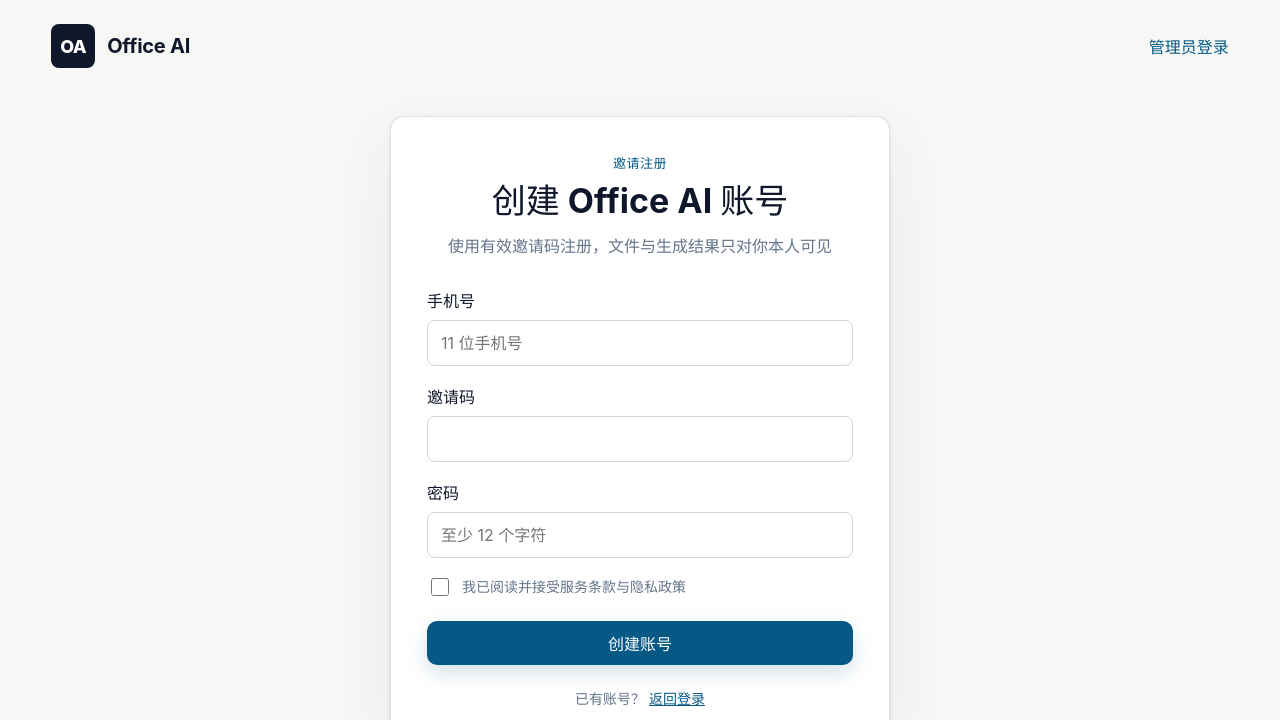
Register view › clears a partially issued Session when identity bootstrap fails
Type "13800138000" into the field with test id "phone-number".
click(640, 343); type("13800138000")  # box [427, 320, 853, 366]
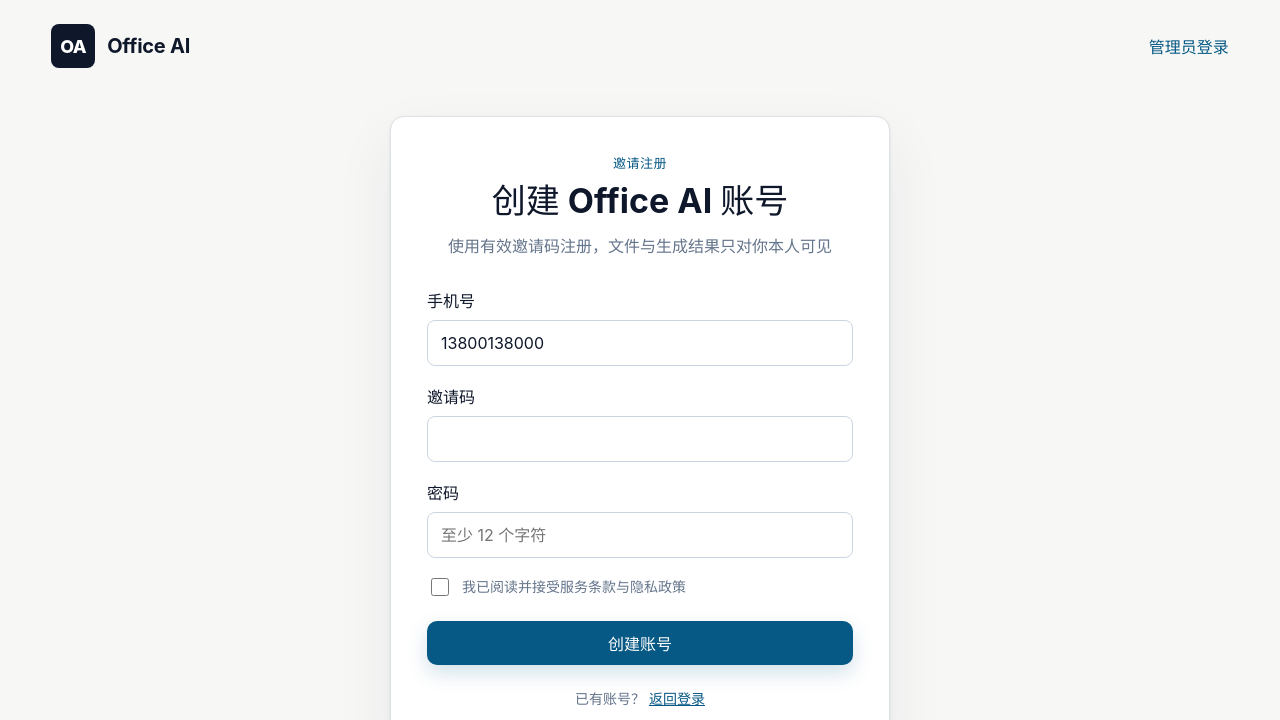
Type "INV-CODE" into the field with test id "invite-code".
click(640, 439); type("INV-CODE")  # box [427, 416, 853, 462]
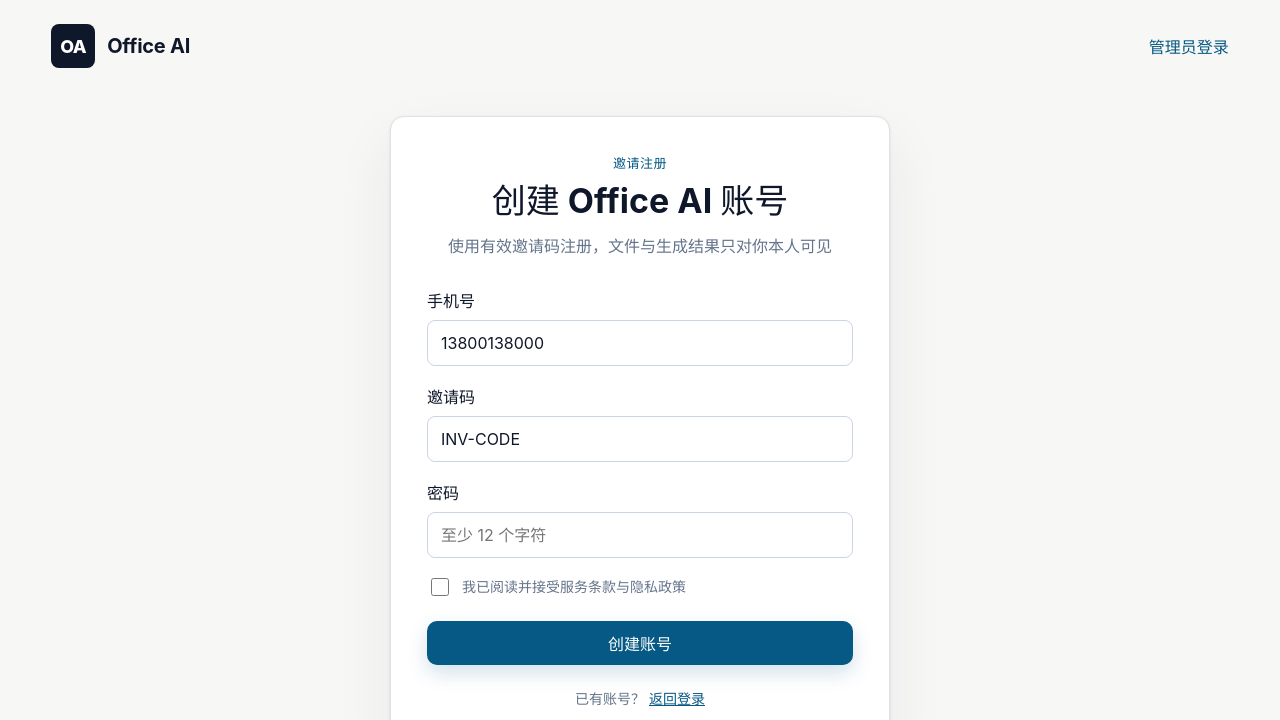
Type "safe-password-123" into the password field with test id "password".
click(640, 535); type("safe-password-123")  # box [427, 512, 853, 558]
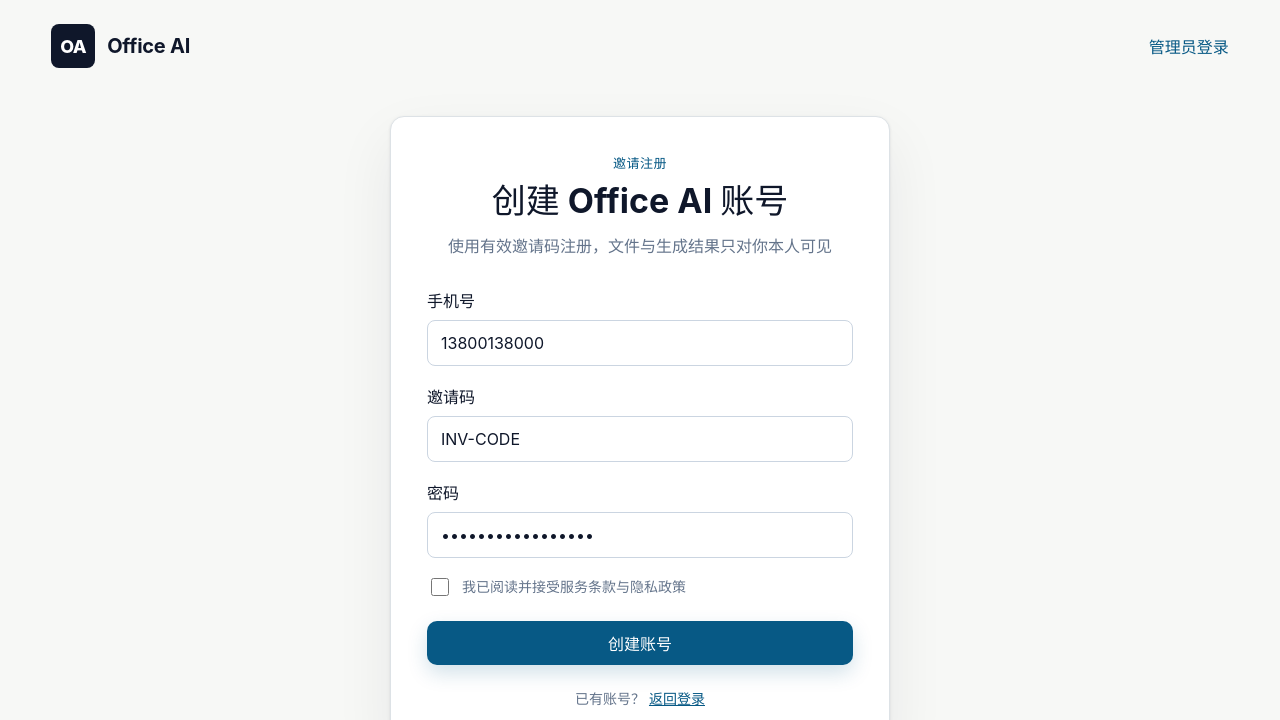
Click the checkbox with test id "accepted-terms".
click(440, 587)  # box [431, 578, 449, 596]
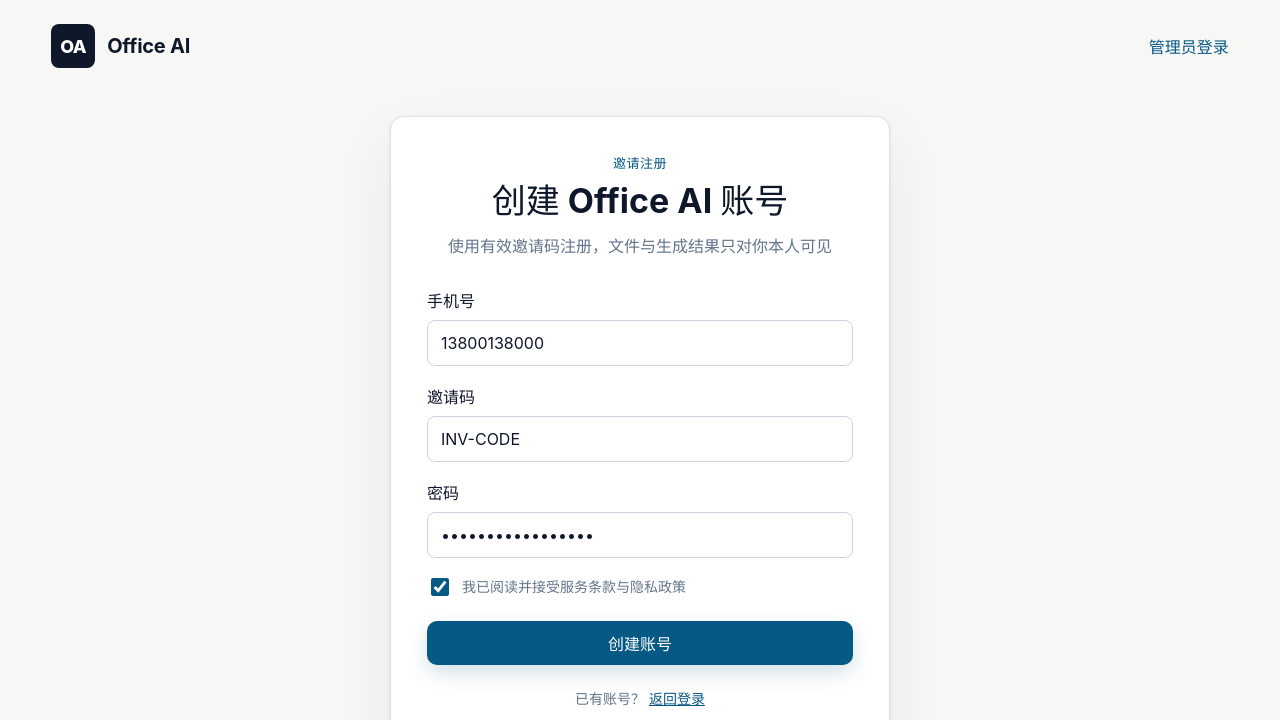
Submit the form with test id "register-submit", box [427, 288, 853, 710]
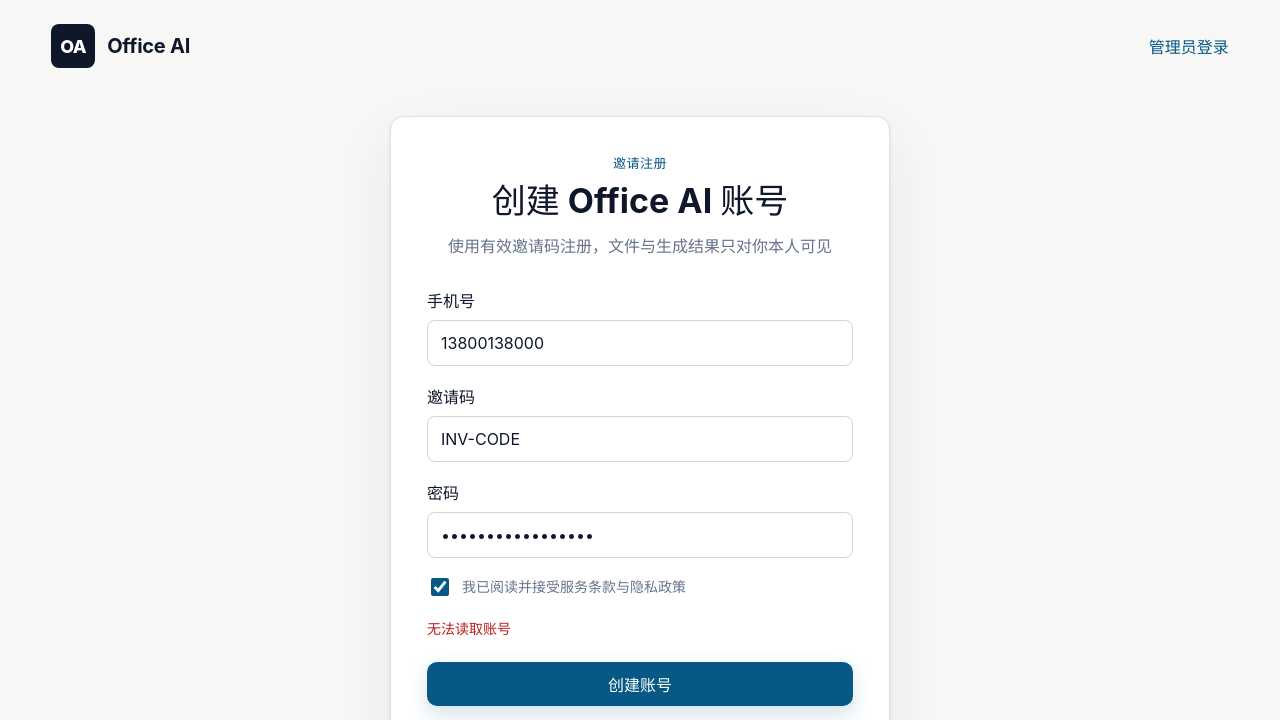
expect the text "无法读取账号" is shown: met, box [427, 620, 511, 637]
